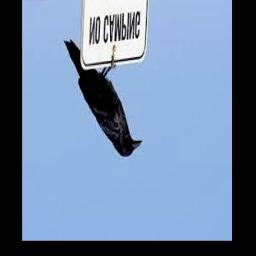Crow: (63, 40, 142, 158)
